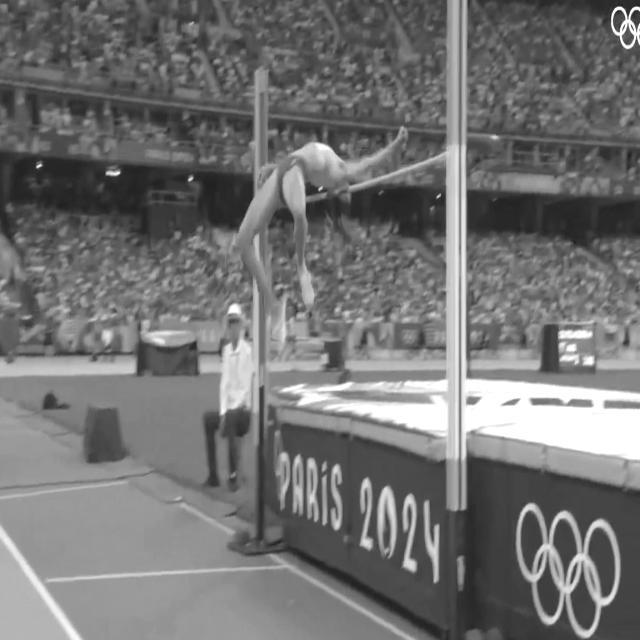jump: (235, 134, 384, 341)
